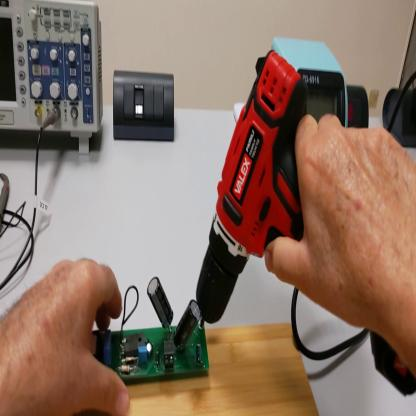electric screwdriver: (197, 50, 416, 397)
hand: (266, 116, 416, 362), (2, 260, 131, 415)
high voltage board: (93, 279, 210, 385)
oscilloscope: (2, 2, 106, 154)
oscilloscope probe tip: (1, 176, 10, 236)
socket: (381, 89, 415, 148), (349, 85, 368, 127)
welder station: (271, 39, 349, 130)
working area: (125, 325, 319, 416)
